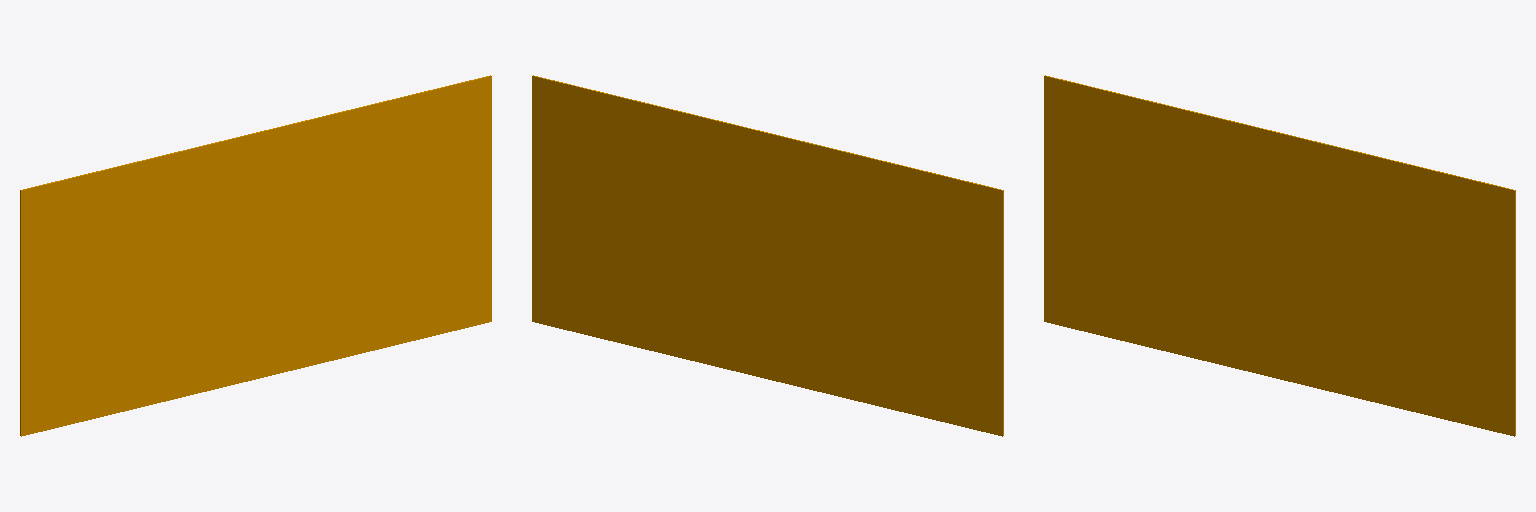
The robot description file, URDF, robot "left_wall":
<?xml version='1.0' encoding='UTF-8'?>
<robot name="left_wall">
  <link name="base_link">
    <inertial>
      <origin xyz="0.0 0.0 0.0" rpy="0.0 -0.0 0.0"/>
      <mass value="1.0"/>
      <inertia ixx="1.0" ixy="0.0" ixz="0.0" iyy="1.0" iyz="0.0" izz="1.0"/>
    </inertial>
    <visual name="base_link_visual">
      <geometry>
        <box size="32 0.1 16"/>
      </geometry>
      <origin xyz="-8 0 -8" rpy="3.14159 3.14159 3.14159"/>
    </visual>
    <collision name="base_link_collision">
      <geometry>
        <box size="32 0.1 16"/>
      </geometry>
      <origin xyz="-8 0 -8" rpy="3.14159 3.14159 3.14159"/>
    </collision>
  </link>
</robot>

--- Facts derived from the render (not from the file) ---
The picture shows the robot from 3 angles, left to right: view 1: azimuth 30°, elevation 25°; view 2: azimuth 150°, elevation 25°; view 3: azimuth 330°, elevation 25°; orthographic projection.
Robot: left_wall — 1 links, 0 joints (none); root link base_link; default pose: every joint at zero.
Links seen in each view (by area): view 1: base_link; view 2: base_link; view 3: base_link.
Link boxes in pixels (x1,y1,x2,y2): base_link: (20, 75, 491, 436); base_link: (532, 75, 1003, 436); base_link: (1044, 75, 1515, 436).
Size in the robot's own frame: 32 by 0.1001 by 16 metres.
Geometry: primitives only (box / cylinder / sphere), no mesh files.